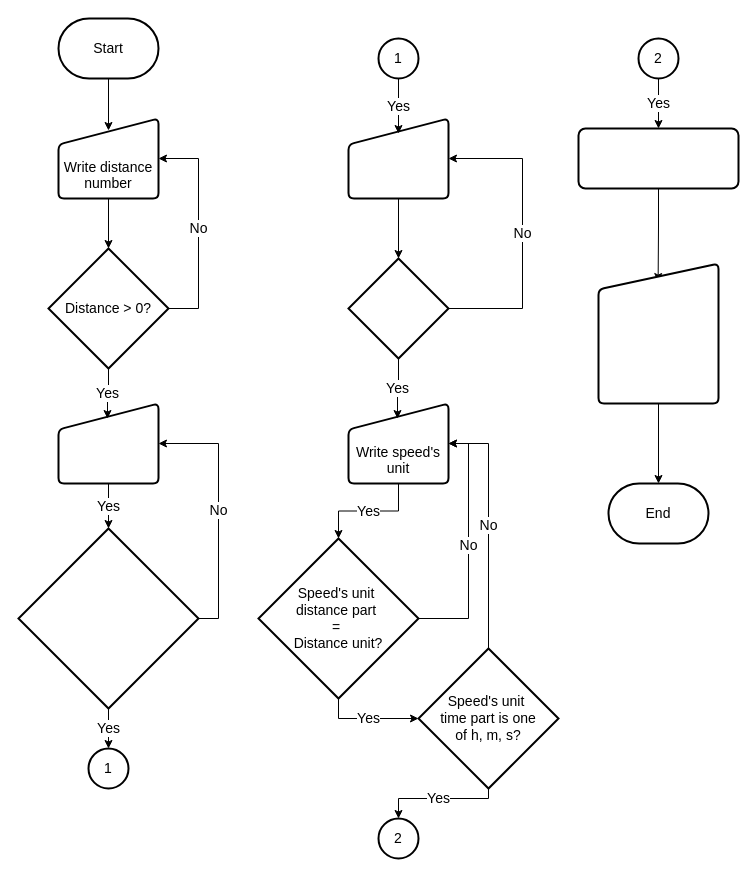
Image size: 756x876. Some labels were removed from this diagram. The shapes that lost their labels are listed below. From the top down, each one's centre as x and y in pixels, then its label:
At (398,158): "Write speed number".
At (658,158): "Divide distance number by speed number".
At (398,308): "Speed > 0?".
At (658,333): "Write result number followed by the speed's unit time part".
At (108,443): "Write distance's unit".
At (108,618): "Distance's unit is one of mm, cm, dm, m, dam, hm, km, in, ft, yd, mi?".
